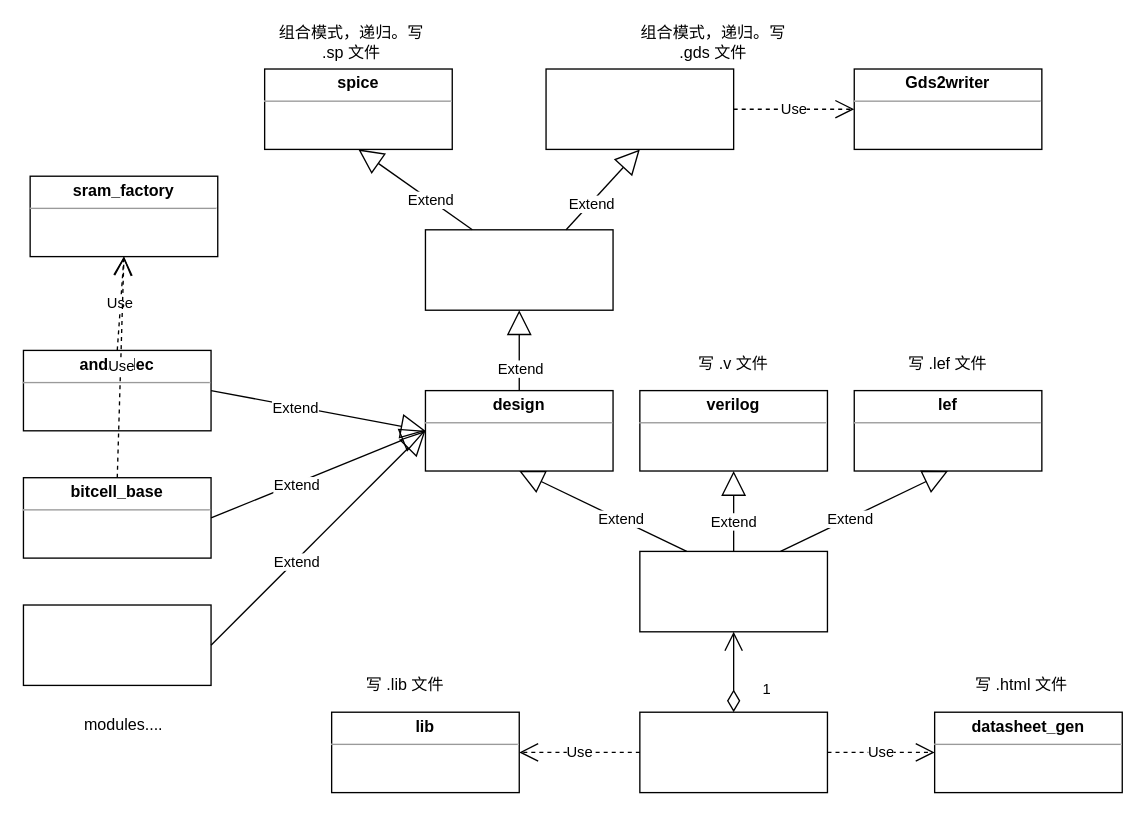
The diagram is 1146 pixels wide and 816 high, and some of its shapes have lost their labels. The box of each missing label's shape, as (x1, y1, x2, y2) in pixels:
dff: (22, 604, 211, 685)
hierarchy_design: (424, 228, 613, 310)
layout: (545, 68, 734, 149)
sram: (639, 711, 827, 793)
sram_1bank: (639, 550, 827, 632)
